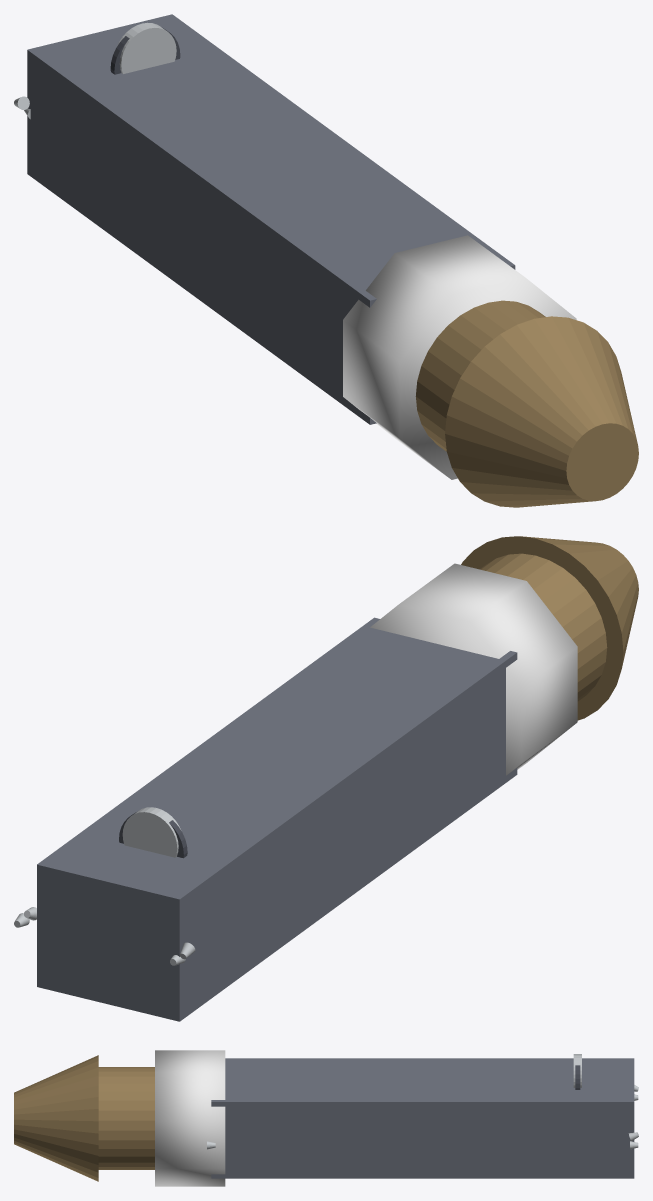
The model's file is wlv01_exterior.glb.
3 views of the same model, one above another, from view 1: azimuth 30°, elevation 25°; view 2: azimuth 150°, elevation 25°; view 3: azimuth 270°, elevation 25° (orthographic). The views are drawn at different scales.
Visible parts, largest first — view 1: Ext_Spine, Ext_EngineNozzle, Ext_AftFairing, Ext_EngineHousing, Ext_DockingPort; view 2: Ext_Spine, Ext_AftFairing, Ext_EngineNozzle, Ext_EngineHousing, Ext_DockingPort; view 3: Ext_Spine, Ext_AftFairing, Ext_EngineNozzle, Ext_EngineHousing, Ext_DockingPort.
Part boxes in pixels (<box>): Ext_Spine: <box>27,14,515,424</box>; Ext_EngineNozzle: <box>445,316,638,507</box>; Ext_AftFairing: <box>343,235,576,479</box>; Ext_EngineHousing: <box>415,300,545,451</box>; Ext_DockingPort: <box>117,22,176,73</box>; Ext_Spine: <box>37,617,517,1021</box>; Ext_AftFairing: <box>370,563,577,775</box>; Ext_EngineNozzle: <box>461,536,638,720</box>; Ext_EngineHousing: <box>479,553,607,701</box>; Ext_DockingPort: <box>122,807,181,857</box>; Ext_Spine: <box>211,1058,634,1178</box>; Ext_AftFairing: <box>155,1050,225,1186</box>; Ext_EngineNozzle: <box>14,1055,98,1181</box>; Ext_EngineHousing: <box>98,1067,154,1169</box>; Ext_DockingPort: <box>573,1054,581,1087</box>.
Size of the model in its own units: 2.79 by 2.82 by 13.3.
